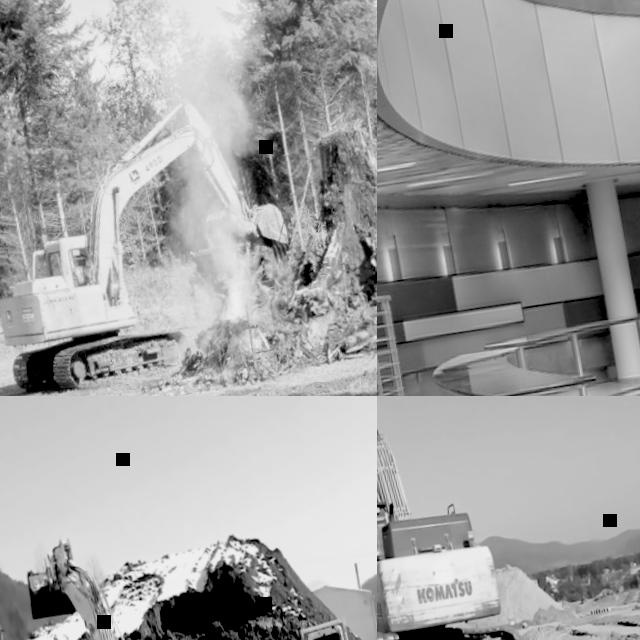Person: (70, 252, 89, 285)
machinery: (0, 79, 309, 396), (377, 396, 534, 640), (18, 517, 226, 640)
